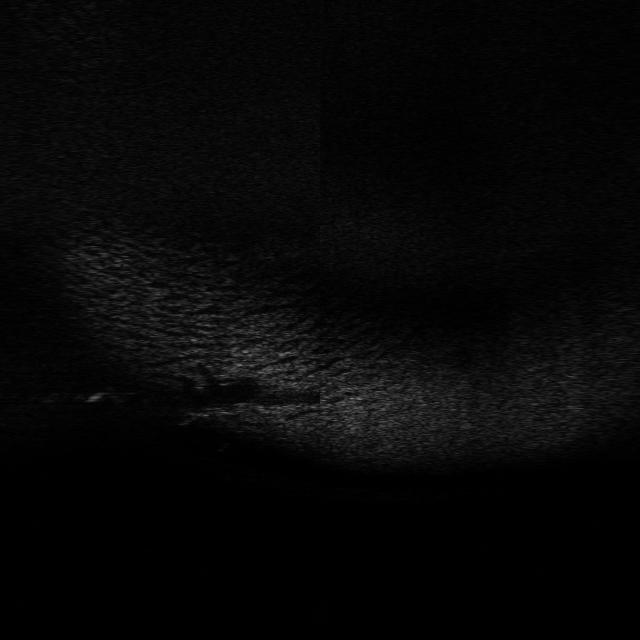plane: (176, 400, 238, 424)
